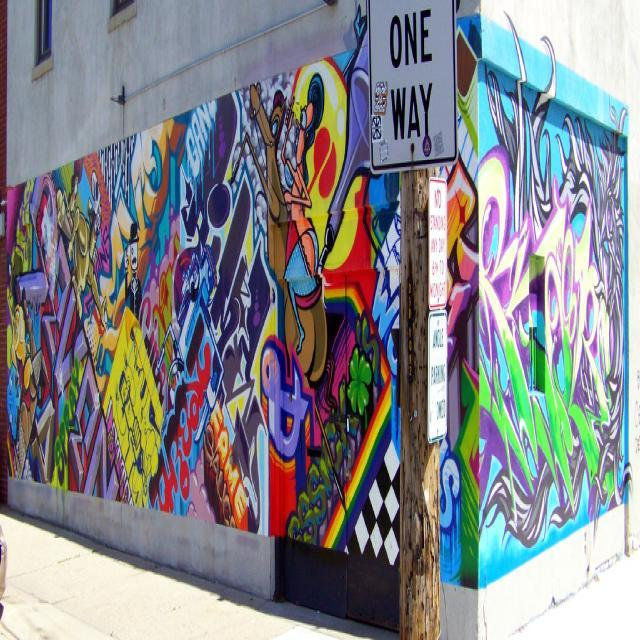-: (10, 83, 263, 529), (248, 8, 398, 562), (439, 554, 626, 584)
